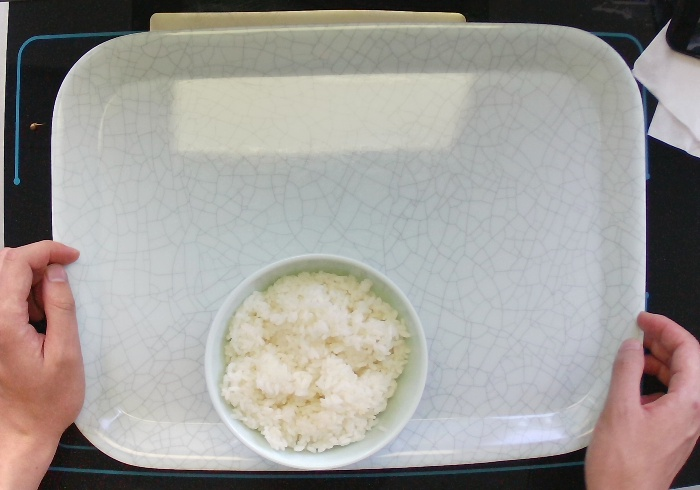JYsf-Fan_Wan: (202, 250, 430, 470)
